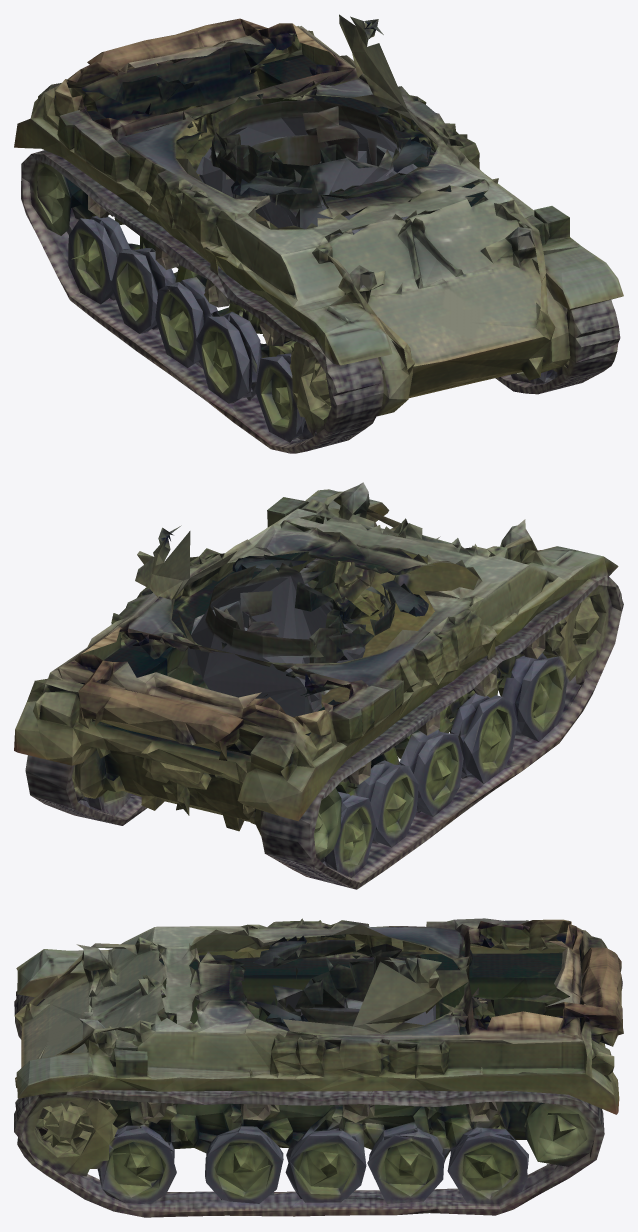
Rendered from hellcat_hull.obj.
The picture shows the model from 3 angles, top to bottom: view 1: azimuth 30°, elevation 25°; view 2: azimuth 150°, elevation 25°; view 3: azimuth 270°, elevation 25°; orthographic projection. The views are drawn at different scales.
Parts seen in each view (by area): view 1: hellcat_hull; view 2: hellcat_hull; view 3: hellcat_hull.
Part boxes in pixels (x1,y1,x2,y2): hellcat_hull: (14, 14, 623, 453); hellcat_hull: (14, 482, 623, 889); hellcat_hull: (14, 918, 623, 1217).
Bounding box in the file's own units: 2.84 × 2.44 × 5.5.
1 material, 1 textured.
